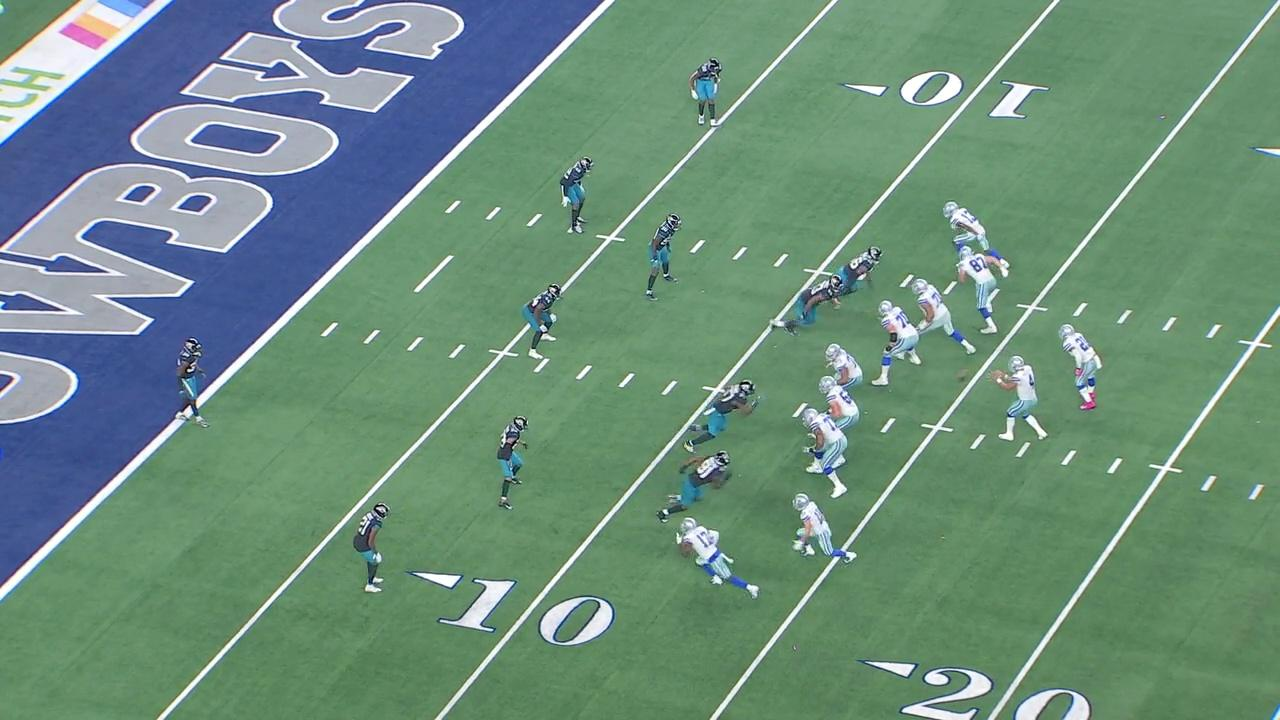defense: (657, 446, 740, 524), (680, 378, 764, 454), (765, 272, 845, 339), (642, 209, 687, 304), (350, 499, 393, 597), (493, 413, 533, 514), (520, 279, 567, 363), (172, 334, 212, 431), (557, 154, 597, 237), (829, 245, 885, 303), (688, 53, 726, 132)
oline: (909, 276, 977, 359), (869, 299, 923, 388), (801, 408, 851, 499), (816, 374, 862, 433), (823, 341, 865, 394)
qb: (990, 354, 1051, 445)
skill: (673, 515, 763, 600), (788, 492, 860, 567), (940, 200, 1012, 274), (955, 245, 1010, 337), (1056, 321, 1102, 414)
